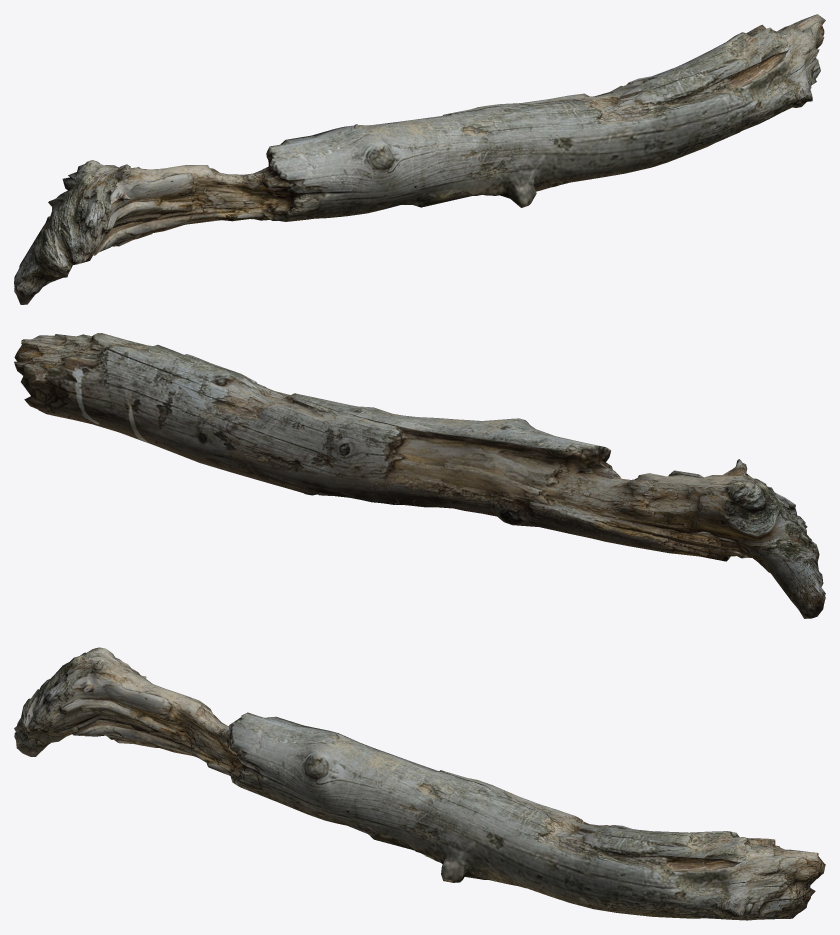
The picture shows the model from 3 angles, top to bottom: view 1: azimuth 30°, elevation 25°; view 2: azimuth 150°, elevation 25°; view 3: azimuth 330°, elevation 25°; orthographic projection.
Parts seen in each view (by area): view 1: Branch; view 2: Branch; view 3: Branch.
Part boxes in pixels (x1=…): Branch: x1=14, y1=14, x2=825, y2=304; Branch: x1=14, y1=333, x2=825, y2=618; Branch: x1=14, y1=647, x2=825, y2=920.
Bounding box in the file's own units: 24.28 × 3.73 × 2.98.
1 material, 1 textured.
